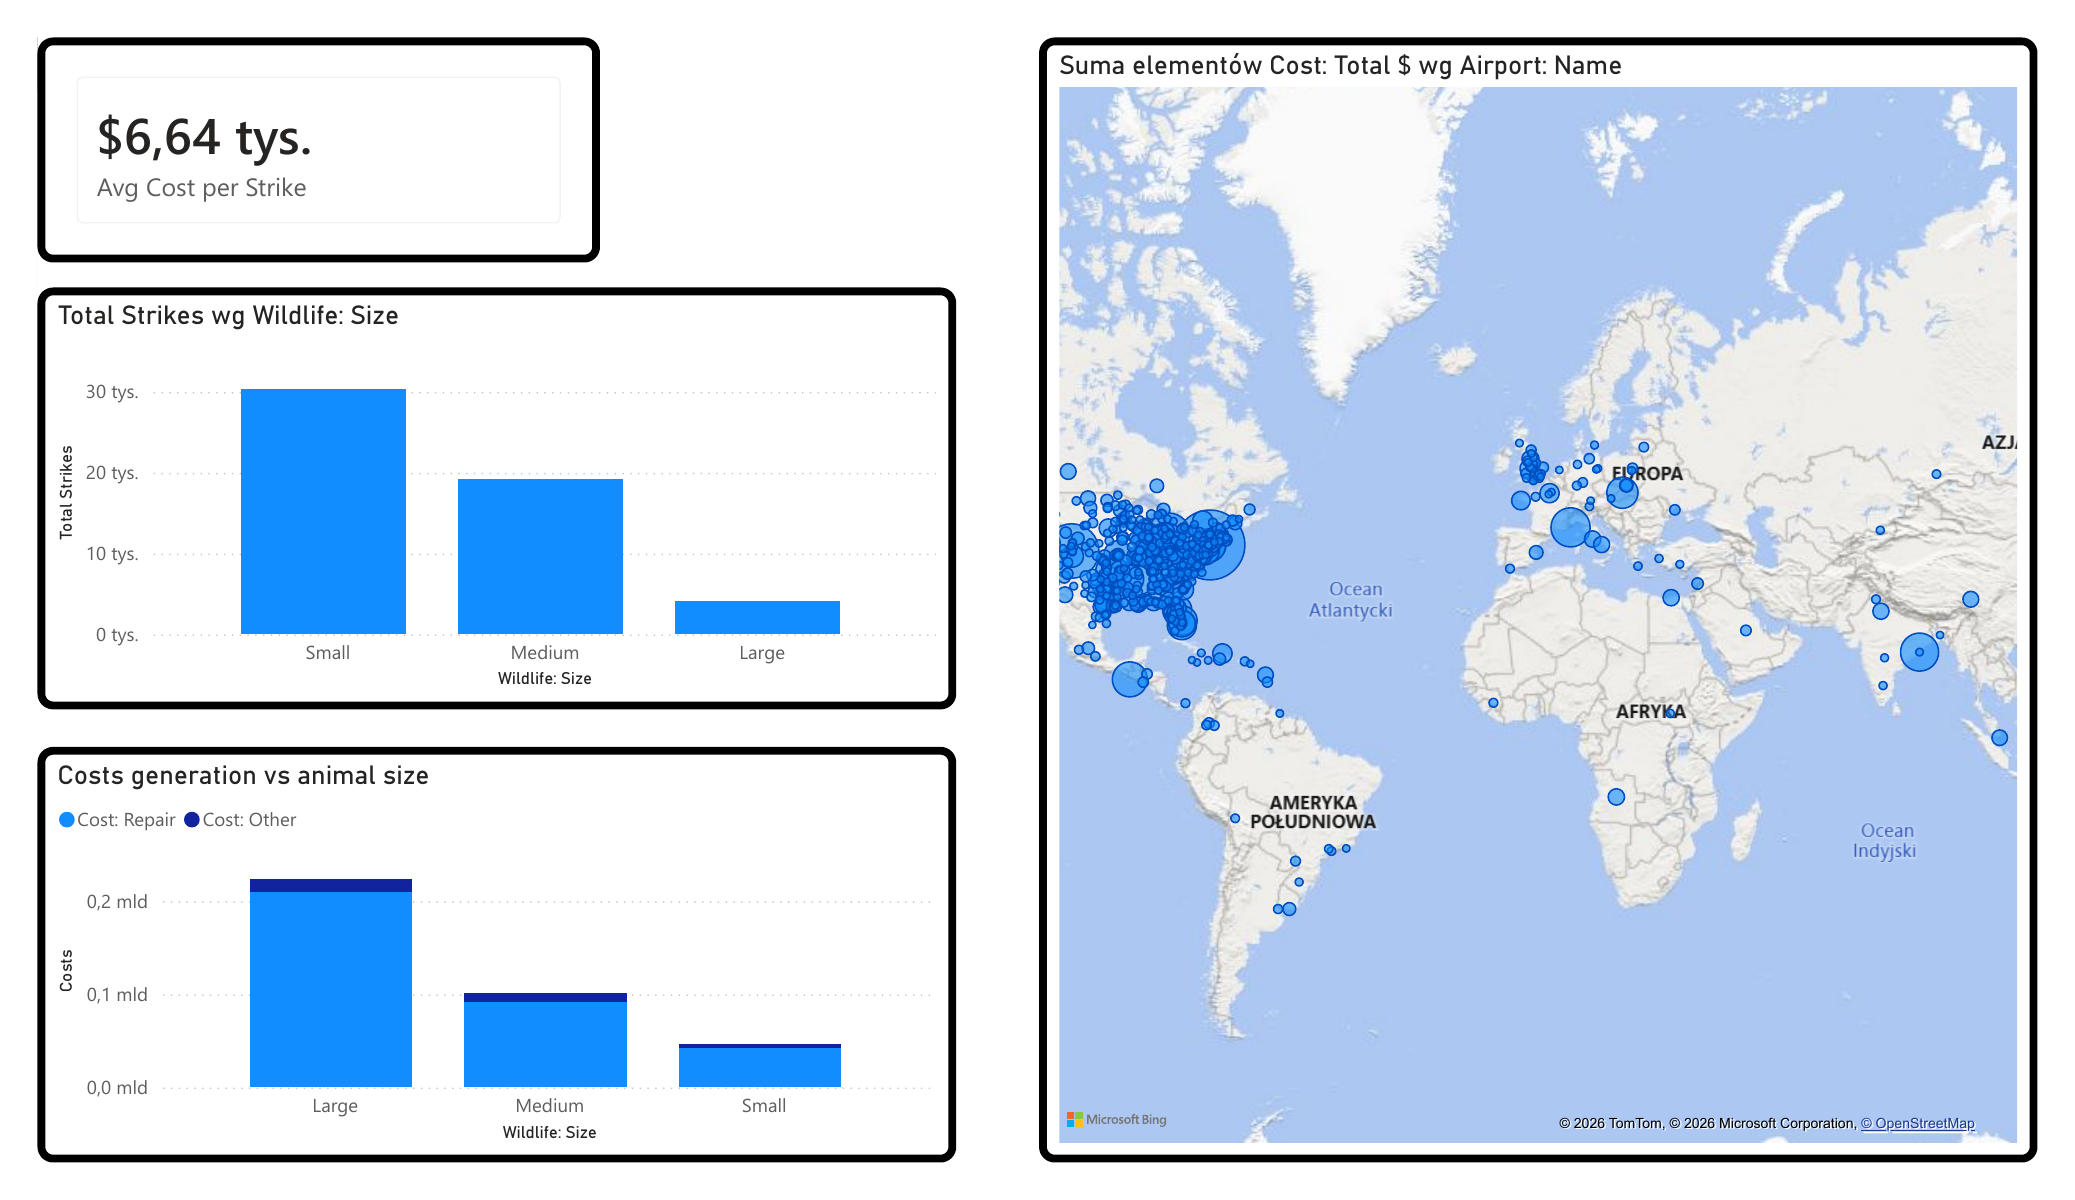

What the dashboard file says about the page in this screenshot:
{"tool":"powerbi","page":{"name":"Koszty","canvas":[1280,720],"ordinal":2},"visuals":[{"type":"cardVisual","fields":{"Data":["FactStrikes.Avg Cost per Strike"]},"box":[0,0,360,144],"z":0},{"type":"columnChart","fields":{"Category":["FactStrikes.Wildlife: Size"],"Y":["FactStrikes.Total Strikes"]},"box":[0,160,588,270],"z":1000},{"type":"map","fields":{"Category":["DimGeography.Airport: Name"],"Size":["Sum(FactStrikes.Cost: Total $)"]},"box":[640.6,0,639.4,720.4],"z":2000},{"type":"columnChart","title":"Costs generation vs animal size","fields":{"Category":["FactStrikes.Wildlife: Size"],"Y":["Sum(FactStrikes.Cost: Repair (inflation adj))","Sum(FactStrikes.Cost: Other (inflation adj))"]},"box":[0,454,588,266],"z":3000}]}

Visuals, with their boxes in screenshot pixels (x1, y1, x2, y2):
cardVisual - FactStrikes.Avg Cost per Strike: 49/38/604/260
columnChart - FactStrikes.Wildlife: Size x FactStrikes.Total Strikes: 49/285/955/701
map - DimGeography.Airport: Name x Sum(FactStrikes.Cost: Total $): 1036/38/2022/1149
"Costs generation vs animal size" columnChart: 49/738/955/1148
